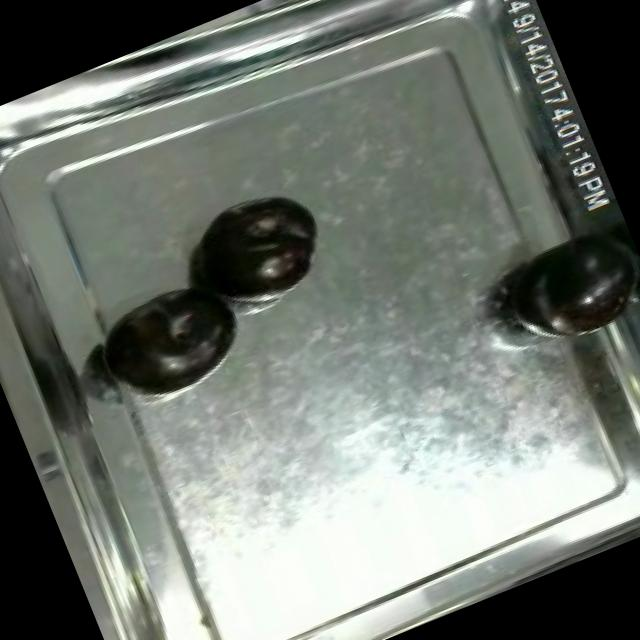Fruit: (88, 264, 258, 408), (174, 172, 338, 318), (496, 213, 640, 360)
